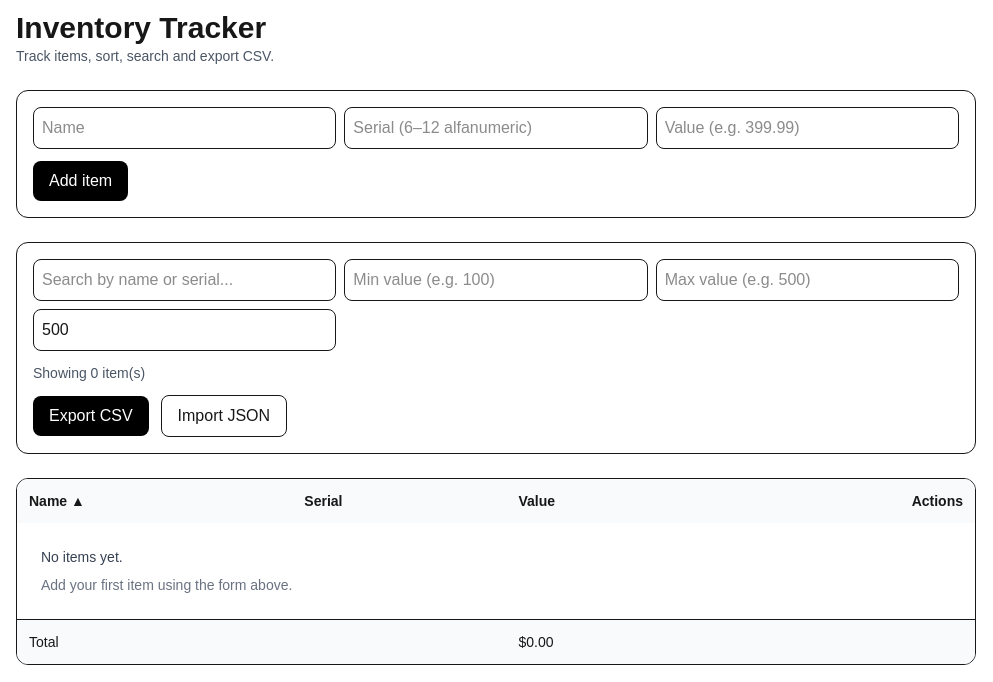
Inventory Page › adds a valid item and shows it in the table
The image size is (993, 682).
In the field with placeholder "Name": (185, 128) top-left (33, 107), bottom-right (336, 149), type "Xbox One"
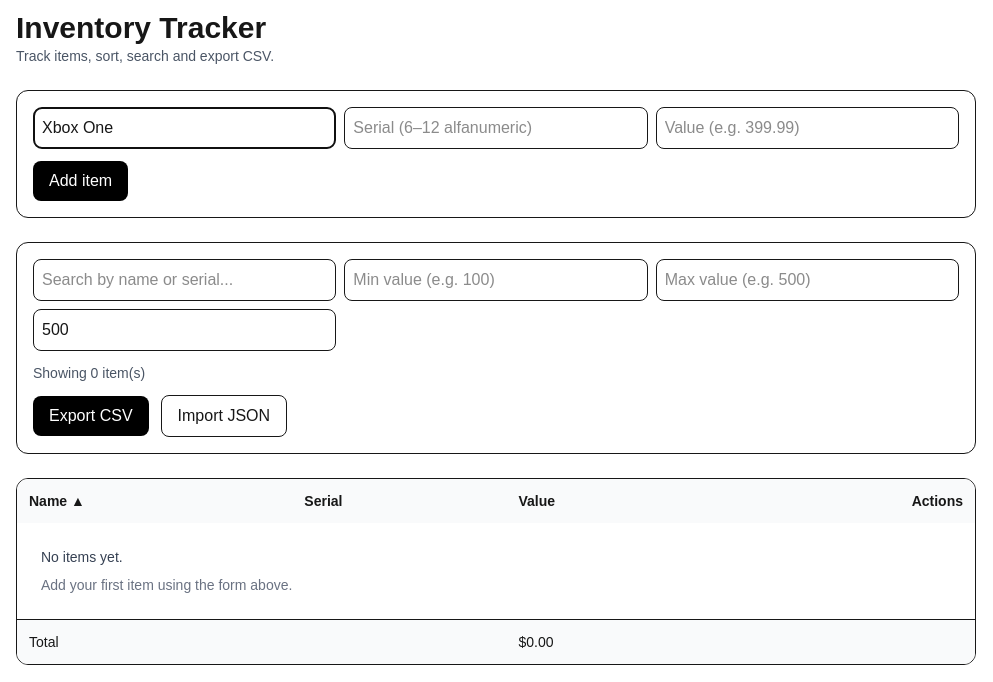
In the field with placeholder "Serial (6–12 alfanumeric)": (496, 128) top-left (344, 107), bottom-right (648, 149), type "ABC123"
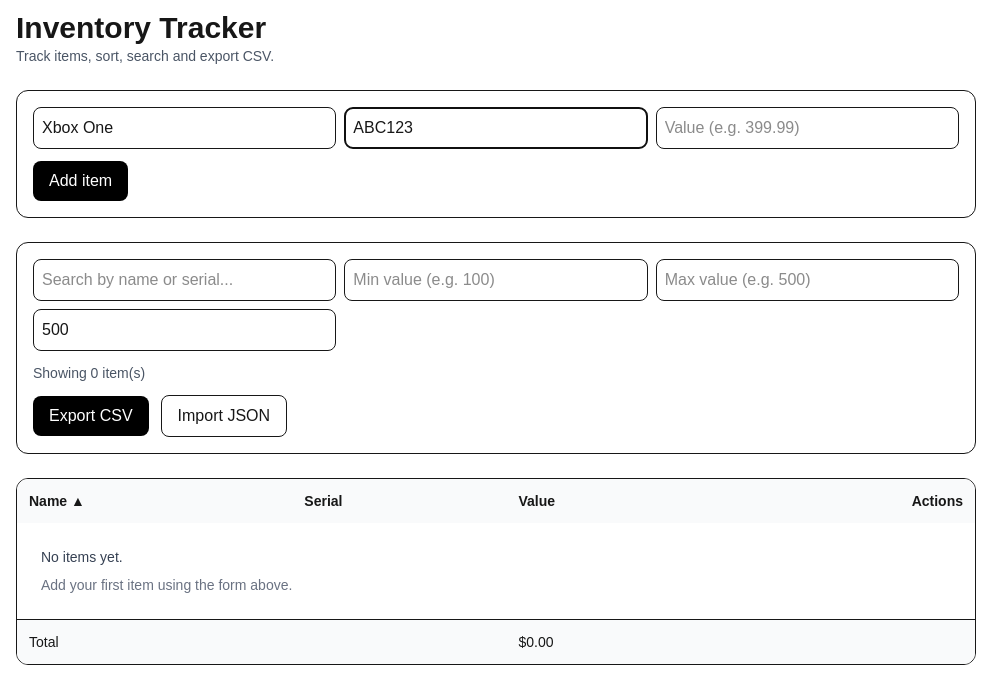
In the field with placeholder "Value (e.g. 399.99)": (807, 128) top-left (656, 107), bottom-right (959, 149), type "399"
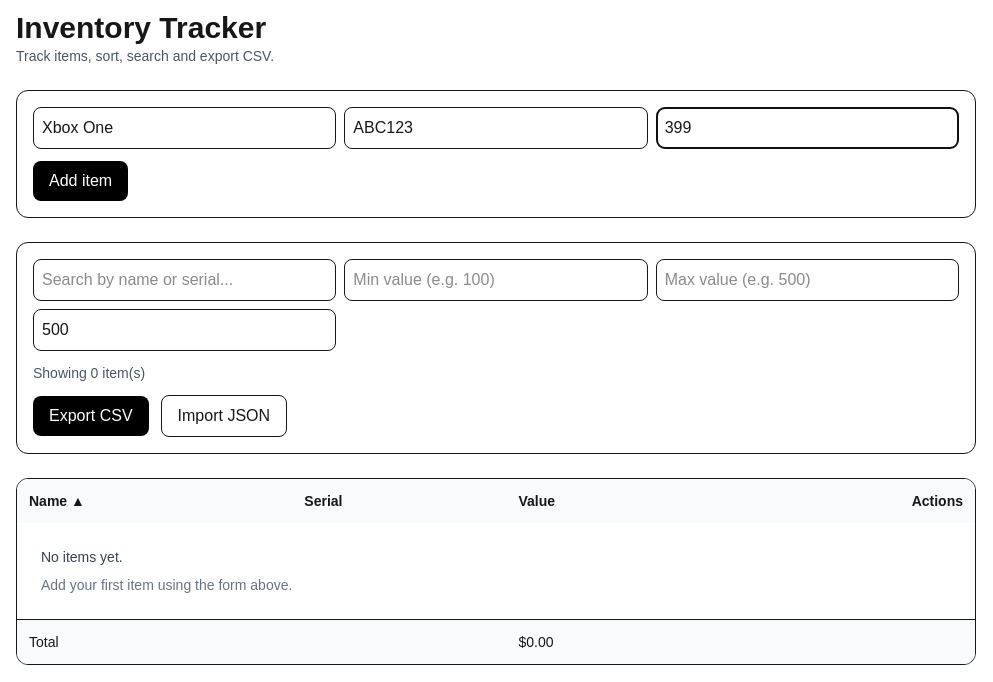
Click the button "Add item": (81, 181) top-left (33, 161), bottom-right (128, 201)
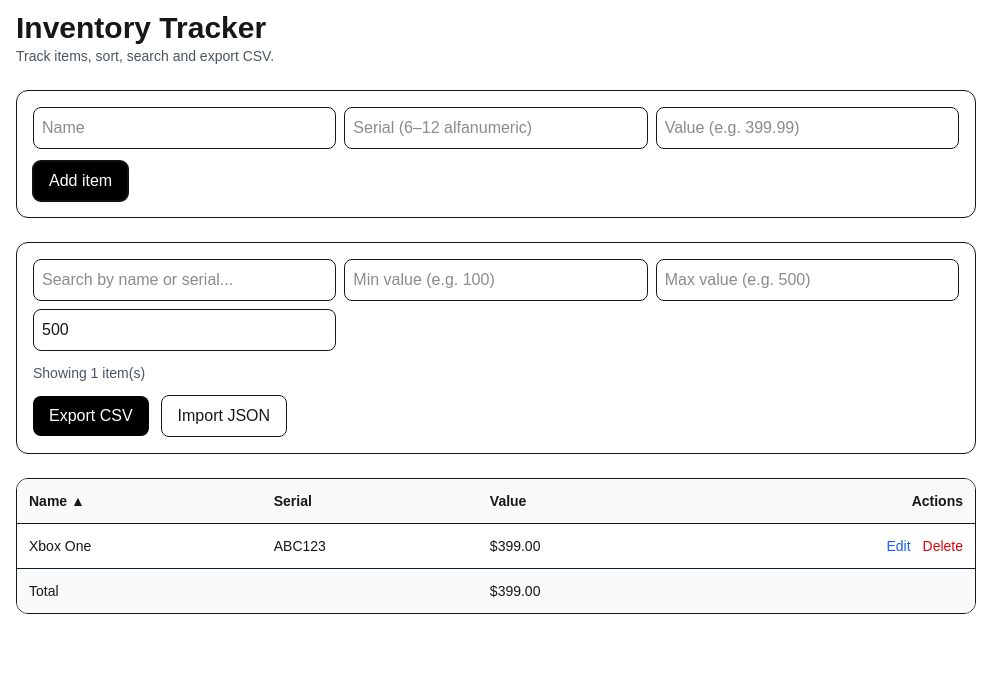
Expected: the text "Xbox One" is shown, top-left (17, 524), bottom-right (262, 568)
Expected: the text "ABC123" is shown, top-left (262, 524), bottom-right (478, 568)
Expected: the table shows "$399.00", top-left (17, 479), bottom-right (975, 613)
